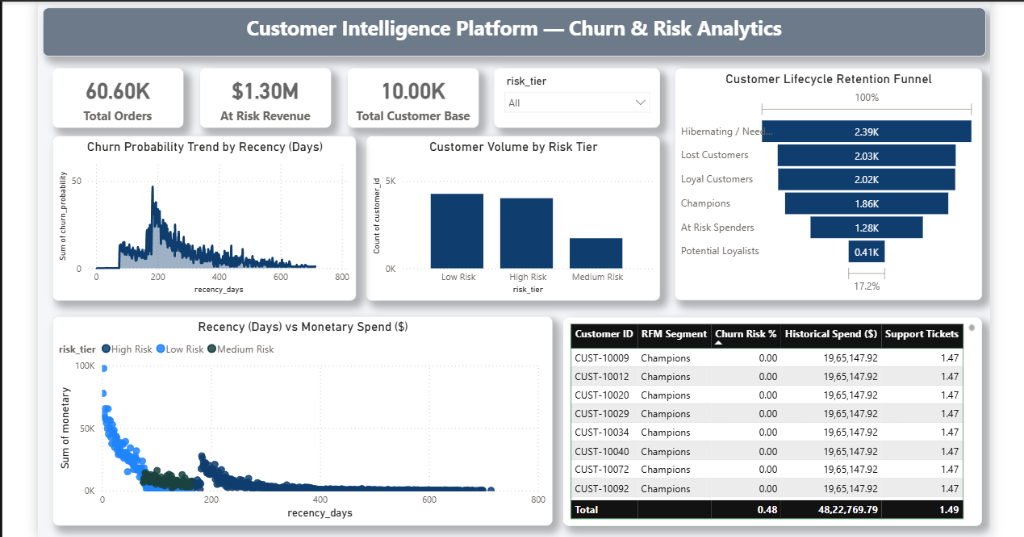

The page's visual inventory and layout, read from the dashboard file:
{"tool":"powerbi","page":{"name":"Churn & Risk Analytics","canvas":[1280,720],"ordinal":1},"visuals":[{"type":"textbox","box":[6.3,8.1,1267.2,65],"z":0},{"type":"card","fields":{"Values":["Dim_Customer_Analytics.At Risk Revenue"]},"box":[218,89.5,175.7,79.7],"z":1000},{"type":"card","fields":{"Values":["CountNonNull(Dim_Customer_Analytics.customer_id)"]},"box":[416.4,89.5,175.7,79.7],"z":2000},{"type":"slicer","title":"Risk","fields":{"Values":["Dim_Customer_Analytics.risk_tier"]},"box":[613.2,89.5,222.8,79.7],"z":3000},{"type":"clusteredColumnChart","title":"Customer Volume by Risk Tier","fields":{"Category":["Dim_Customer_Analytics.risk_tier"],"Y":["CountNonNull(Dim_Customer_Analytics.customer_id)"]},"box":[440.8,180.5,395.3,221.2],"z":4000},{"type":"scatterChart","title":"Recency (Days) vs Monetary Spend ($)","fields":{"Series":["Dim_Customer_Analytics.risk_tier"],"X":["Dim_Customer_Analytics.recency_days"],"Y":["Sum(Dim_Customer_Analytics.monetary)"]},"box":[19.5,422.9,671.8,281.4],"z":5000},{"type":"tableEx","title":"High-Risk Customer Action List","fields":{"Values":["Fact_Transactions.customer_id","Dim_Customer_Analytics.rfm_segment","Avg(Dim_Customer_Analytics.churn_probability)","Sum(Dim_Customer_Analytics.monetary)","Avg(Dim_Customer_Analytics.support_tickets_opened)"]},"box":[705.9,424.5,562.8,279.8],"z":6000},{"type":"card","fields":{"Values":["CountNonNull(Fact_Transactions.order_amount)"]},"box":[19.5,89.5,175.7,79.7],"z":7000},{"type":"areaChart","title":"Churn Probability Trend by Recency (Days)","fields":{"Category":["Dim_Customer_Analytics.recency_days"],"Y":["Sum(Dim_Customer_Analytics.churn_probability)"]},"box":[19.5,180.5,408.3,221.2],"z":8000},{"type":"funnel","title":"Customer Lifecycle Retention Funnel","fields":{"Category":["Dim_Customer_Analytics.rfm_segment"],"Y":["CountNonNull(Dim_Customer_Analytics.customer_id)"]},"box":[855.6,89.5,413.1,312.3],"z":9000}]}

Visuals, with their boxes on the page's 1280x720 design canvas (x1, y1, x2, y2). These are canvas units, not pixel positions in the 1024x537 screenshot, which may show the page scaled, cropped or inside an application window:
textbox: <box>6,8,1274,73</box>
card - Dim_Customer_Analytics.At Risk Revenue: <box>218,90,394,169</box>
card - CountNonNull(Dim_Customer_Analytics.customer_id): <box>416,90,592,169</box>
"Risk" slicer: <box>613,90,836,169</box>
"Customer Volume by Risk Tier" clusteredColumnChart: <box>441,180,836,402</box>
"Recency (Days) vs Monetary Spend ($)" scatterChart: <box>20,423,691,704</box>
"High-Risk Customer Action List" tableEx: <box>706,424,1269,704</box>
card - CountNonNull(Fact_Transactions.order_amount): <box>20,90,195,169</box>
"Churn Probability Trend by Recency (Days)" areaChart: <box>20,180,428,402</box>
"Customer Lifecycle Retention Funnel" funnel: <box>856,90,1269,402</box>
